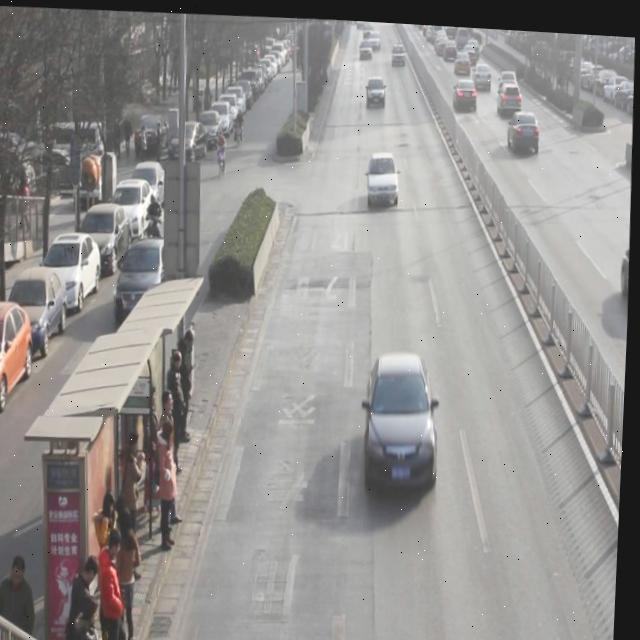car: (364, 345, 447, 494), (113, 234, 180, 328), (365, 146, 402, 206), (507, 104, 541, 149), (451, 71, 479, 109), (496, 75, 523, 111), (620, 224, 632, 295), (365, 70, 388, 106), (472, 56, 492, 87), (455, 45, 471, 73), (391, 38, 406, 63), (359, 35, 372, 58), (498, 64, 517, 78), (368, 27, 381, 46)
